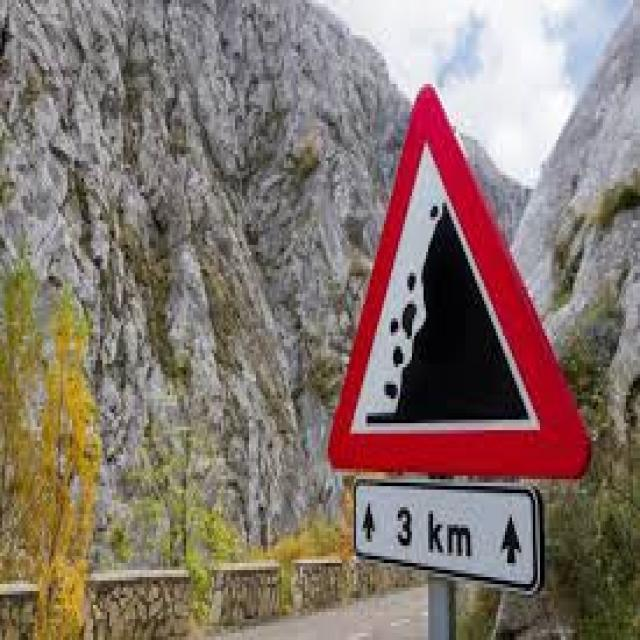falling rocks: (325, 79, 596, 483)
